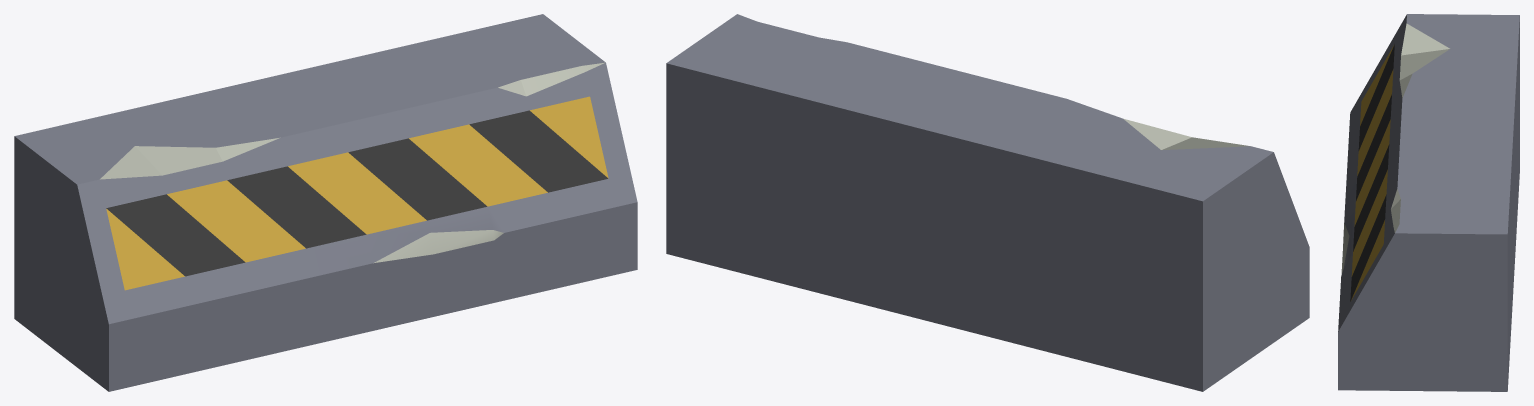
File: Barrier Single.glb
3 views of the same model, side by side, from view 1: azimuth 30°, elevation 25°; view 2: azimuth 150°, elevation 25°; view 3: azimuth 270°, elevation 25° (orthographic). The views are drawn at different scales.
Visible parts, largest first — view 1: Barrier Single; view 2: Barrier Single; view 3: Barrier Single.
Boxes of the visible parts, bbox=[...] form: Barrier Single: bbox=[14, 14, 637, 391]; Barrier Single: bbox=[666, 14, 1309, 391]; Barrier Single: bbox=[1338, 14, 1519, 391].
Size of the model in its own units: 0.6049 by 0.201 by 0.2102.
